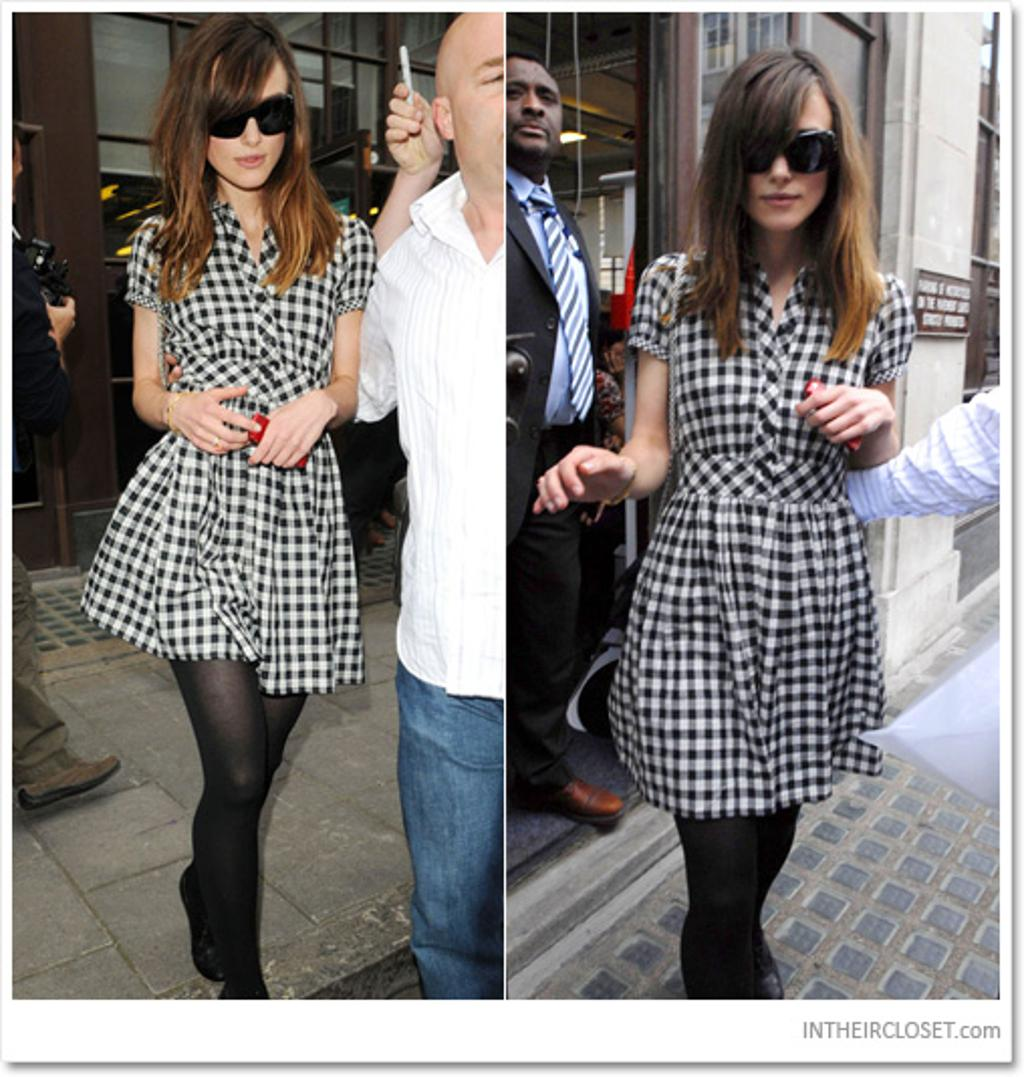face: (732, 80, 833, 225), (193, 48, 290, 189), (505, 57, 562, 158)
